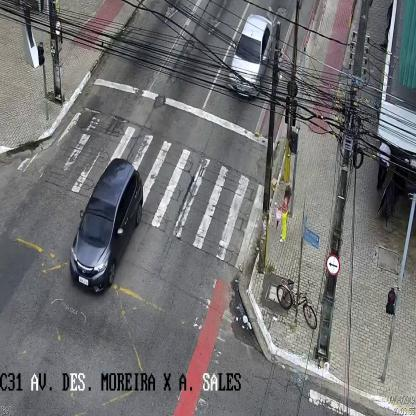bicycle: (277, 277, 317, 329)
car: (70, 160, 142, 294), (227, 15, 275, 101)
person: (275, 183, 291, 243)
